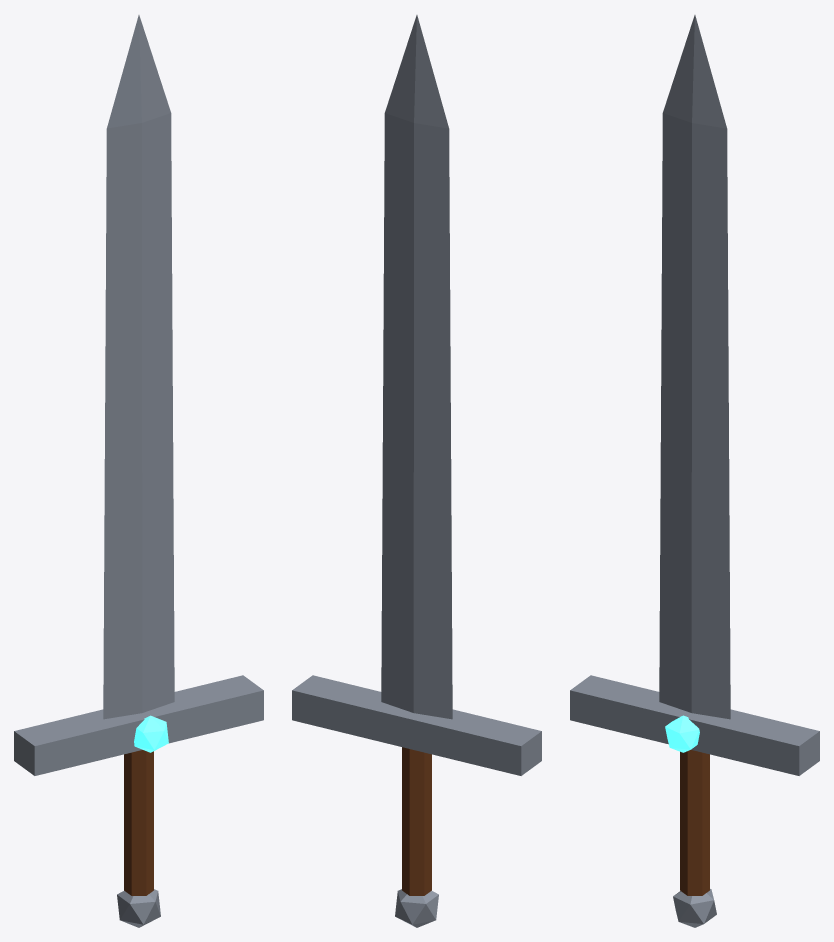
Rendered from broadsword.fbx.
3 views of the same model, side by side, from view 1: azimuth 30°, elevation 25°; view 2: azimuth 150°, elevation 25°; view 3: azimuth 330°, elevation 25° (orthographic).
Parts seen in each view (by area): view 1: broadsword; view 2: broadsword; view 3: broadsword.
Part boxes in pixels (x1,y1,x2,y2): broadsword: (14, 15, 263, 927); broadsword: (292, 15, 541, 927); broadsword: (570, 15, 819, 927).
Size of the model in its own units: 0.32 by 1.22 by 0.0748.
